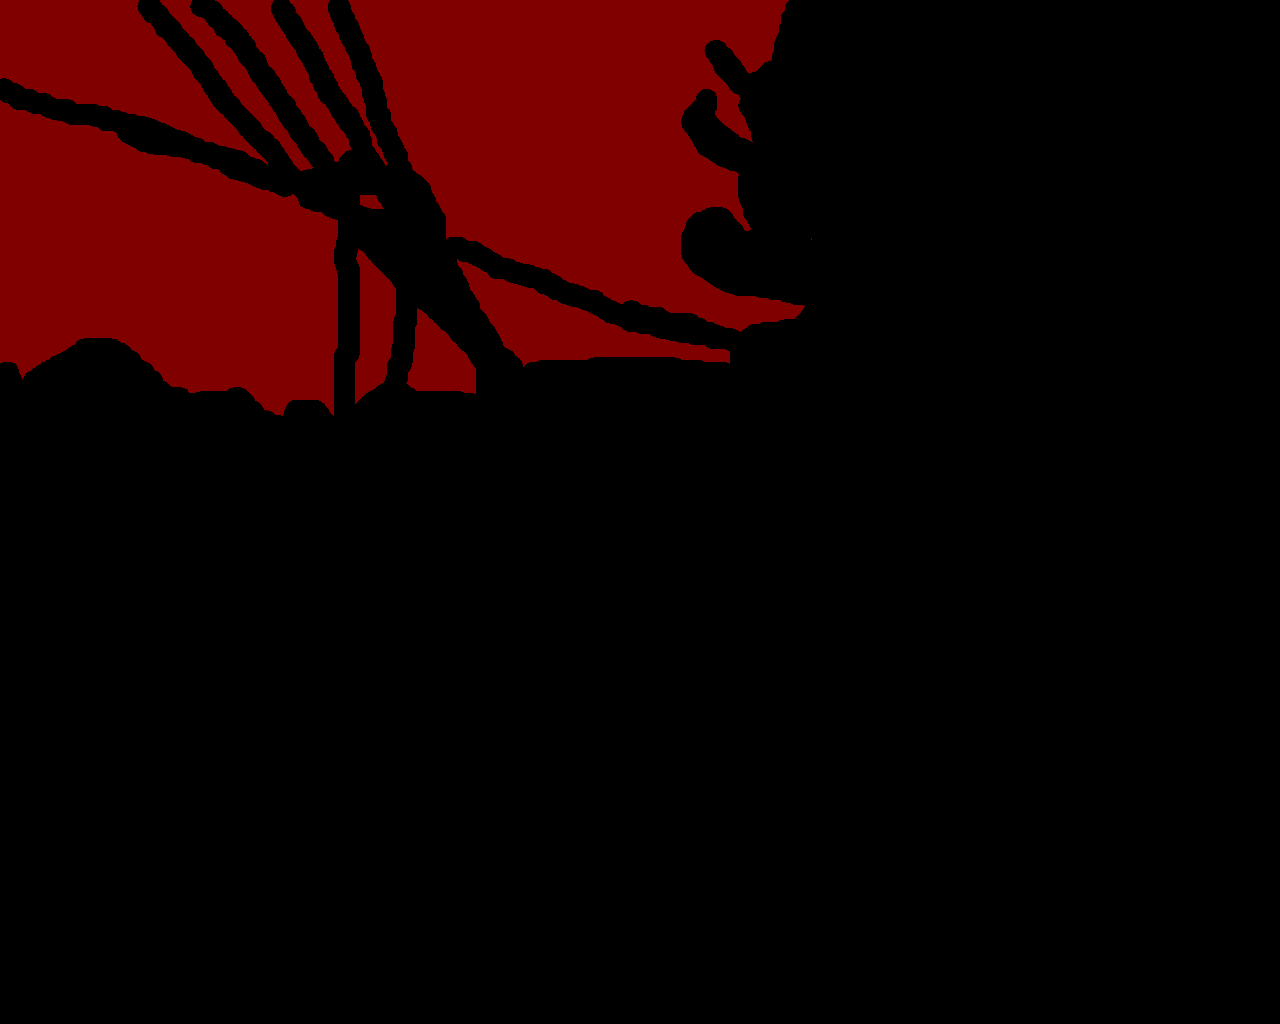Sky: (1, 1, 811, 416)
